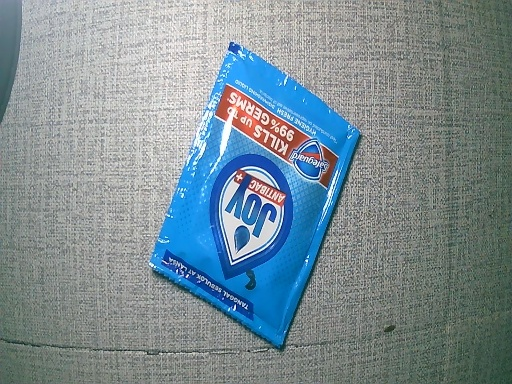plastic: (144, 43, 360, 348)
